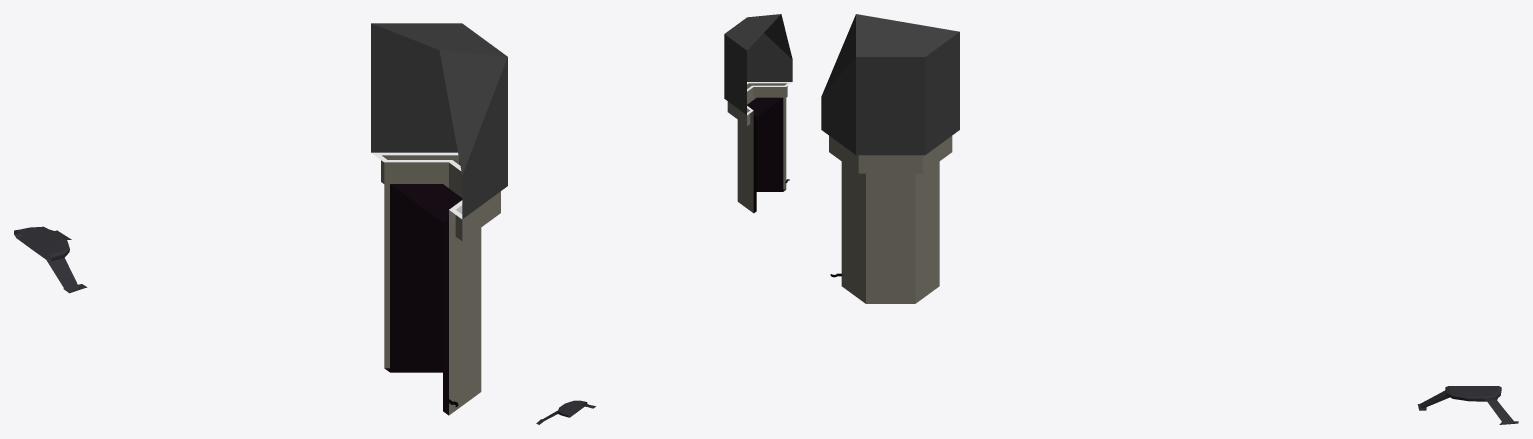
The model's file is Canon.glb.
3 views of the same model, side by side, from view 1: azimuth 30°, elevation 25°; view 2: azimuth 150°, elevation 25°; view 3: azimuth 270°, elevation 25° (orthographic). The views are drawn at different scales.
Parts seen in each view (by area): view 1: Canon_canon, Canon_stand; view 2: Canon_canon, Canon_stand; view 3: Canon_canon, Canon_stand.
Part boxes in pixels (x1,y1,x2,y2): Canon_canon: (371, 23, 507, 415); Canon_stand: (14, 226, 87, 293); Canon_canon: (724, 14, 792, 213); Canon_stand: (536, 400, 595, 424); Canon_canon: (821, 14, 959, 303); Canon_stand: (1417, 386, 1518, 424).
Size of the model in its own units: 0.0883 by 0.6334 by 1.03.
1 material, 1 textured.
